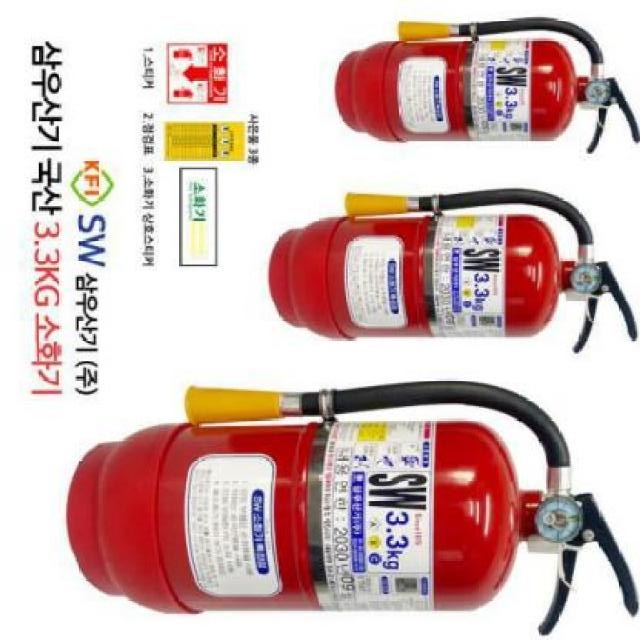fire extinguisher: (66, 378, 639, 637), (266, 186, 639, 354), (334, 16, 640, 155)
